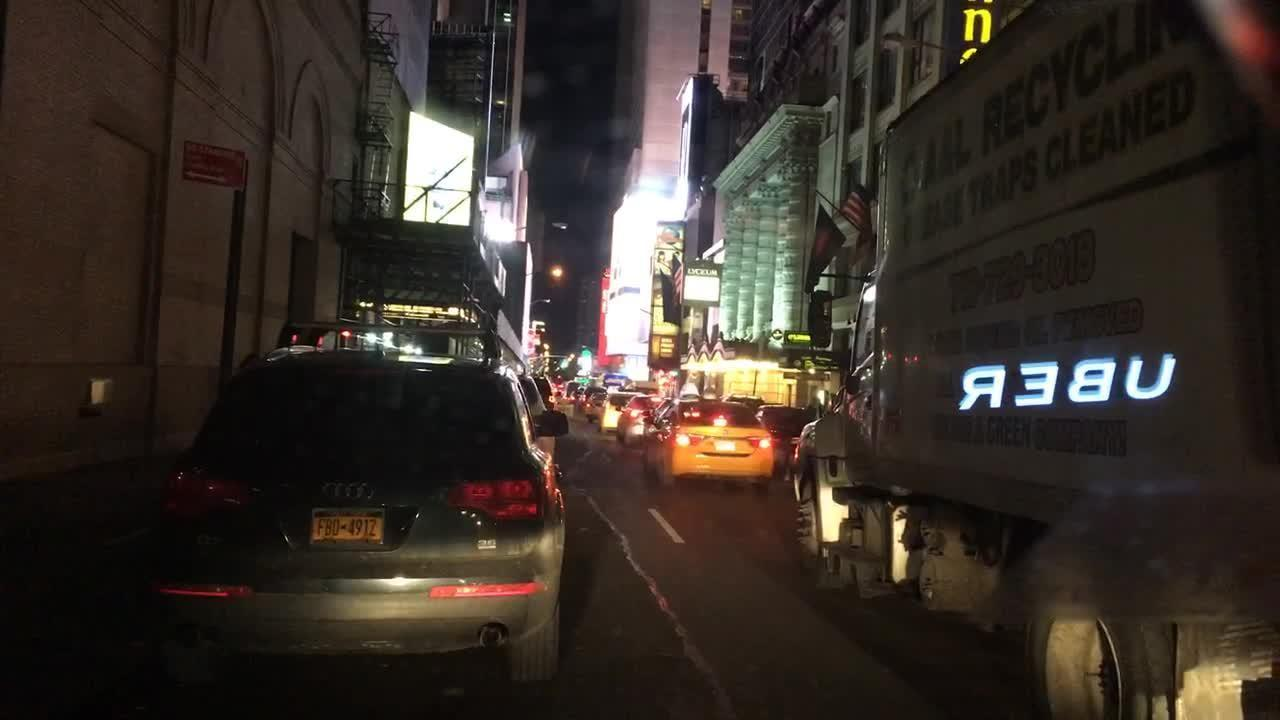Audi: (313, 469, 382, 505)
